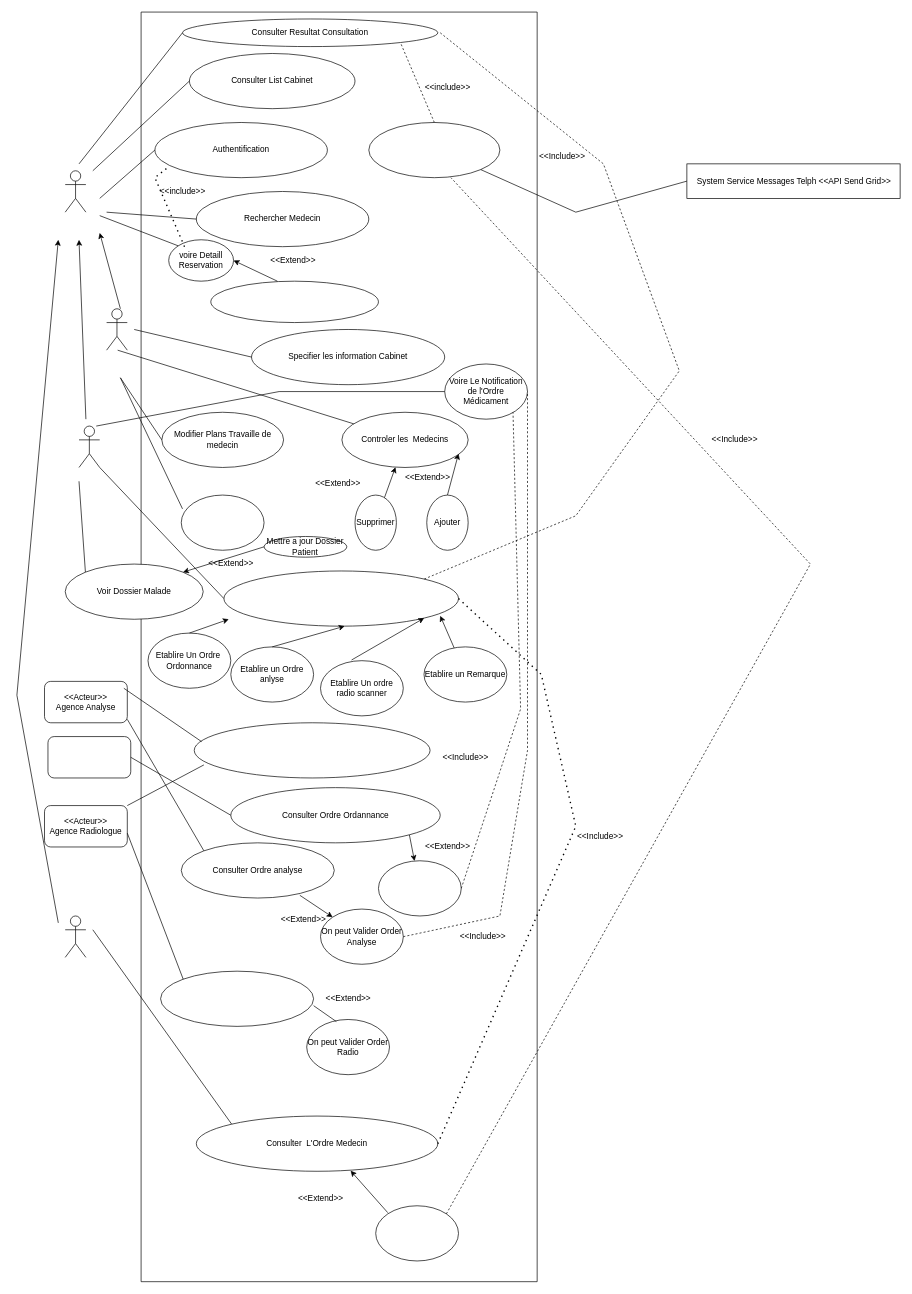
The diagram is 912 pixels wide and 1294 high, and some of its shapes have lost their labels. The centre of each missing label's shape, as x and y in pixels:
"<<Acteur>> Pharmacie" goes at point (89, 757).
"Chef Cabinet" goes at point (116, 329).
"Consulter Ordre Radio" goes at point (237, 998).
"Envoyer Messages Privet Aux Patient" goes at point (434, 150).
"Etablire Un Ordre" goes at point (341, 598).
"Fermiére" goes at point (75, 936).
"Medecin" goes at point (89, 446).
"On peut Valider Order Ordonnance" goes at point (419, 888).
"Partager le resultat aux dossier Malade" goes at point (312, 750).
"patient" goes at point (75, 191).
"Reserver Un Tour" goes at point (294, 301).
"Valider L'Ordre de Medecin" goes at point (417, 1233).
"Voir les Statistique de Medecin" goes at point (222, 522).
